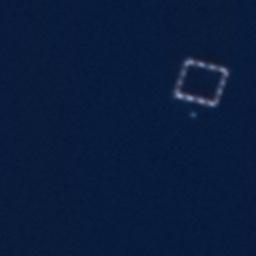square_solid: (168, 53, 232, 113)
